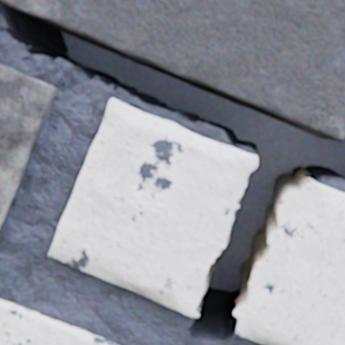brick: (0, 0, 344, 139), (0, 64, 57, 229), (0, 297, 118, 344)
broken_brick: (49, 98, 257, 316), (233, 180, 344, 344)
crack: (0, 2, 344, 344)
